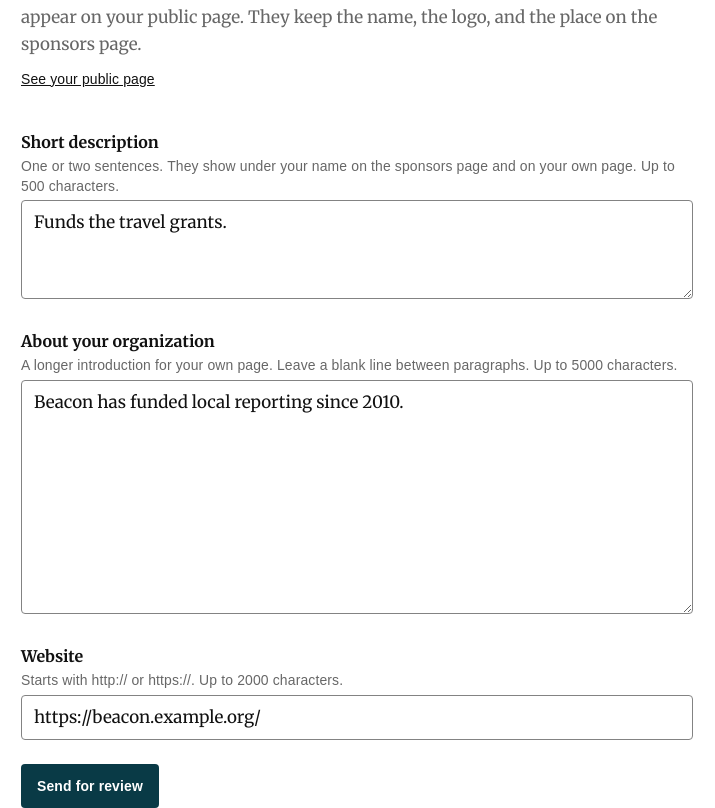
OrganizationProfile › puts a server refusal next to the field it names
(page scrolled)
expect the field labelled "Website" is shown: met, box [21,695,693,740]
What coordinates should you click on to do the following:
click the button "Send for review"
I would click on:
 (90, 786)
Its box is [21,764,159,807].
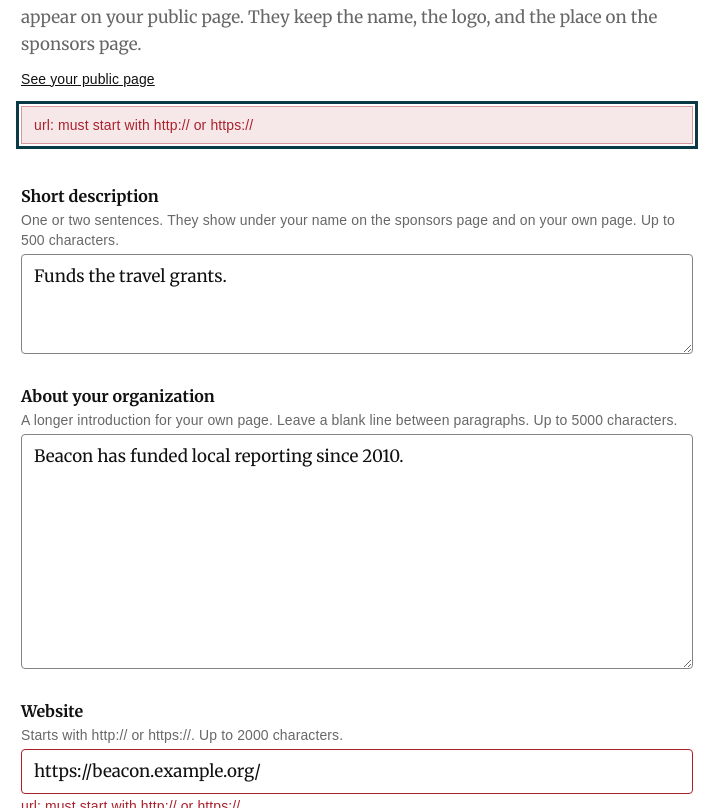
expect the 1st text "url: must start with http:// or https://" is shown: met, box [34,117,253,133]
